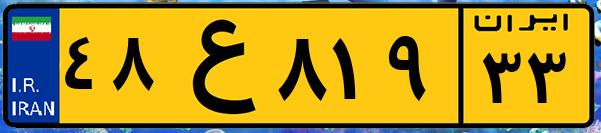1: (330, 28, 385, 110)
3: (475, 38, 525, 113), (525, 38, 570, 115)
4: (57, 26, 110, 100)
8: (270, 28, 330, 110), (110, 28, 158, 98)
9: (385, 28, 445, 110)
ع: (158, 12, 270, 120)
